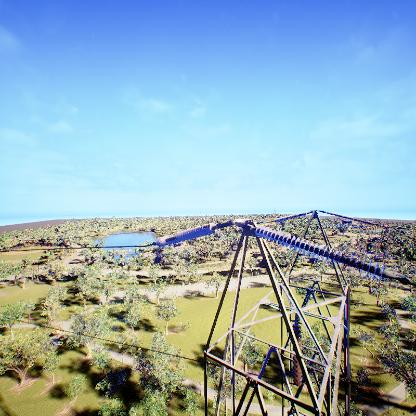insulator: (253, 224, 388, 283), (155, 222, 220, 245)
